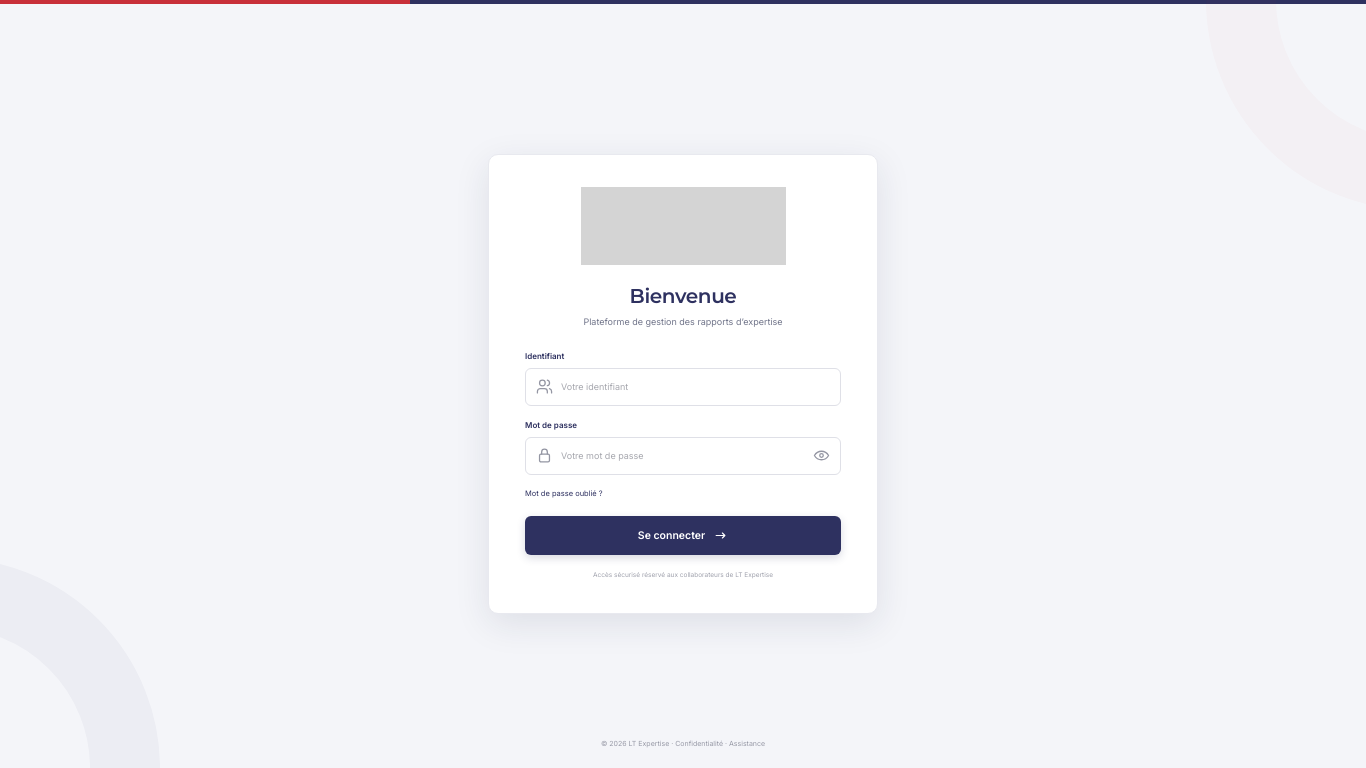
Test: page de connexion › explique la réinitialisation par l'administrateur
What coordinates should you click on to do the following:
click the button "Mot de passe oublié ?"
I would click on:
 (564, 493)
Its box is [525,488,603,499].
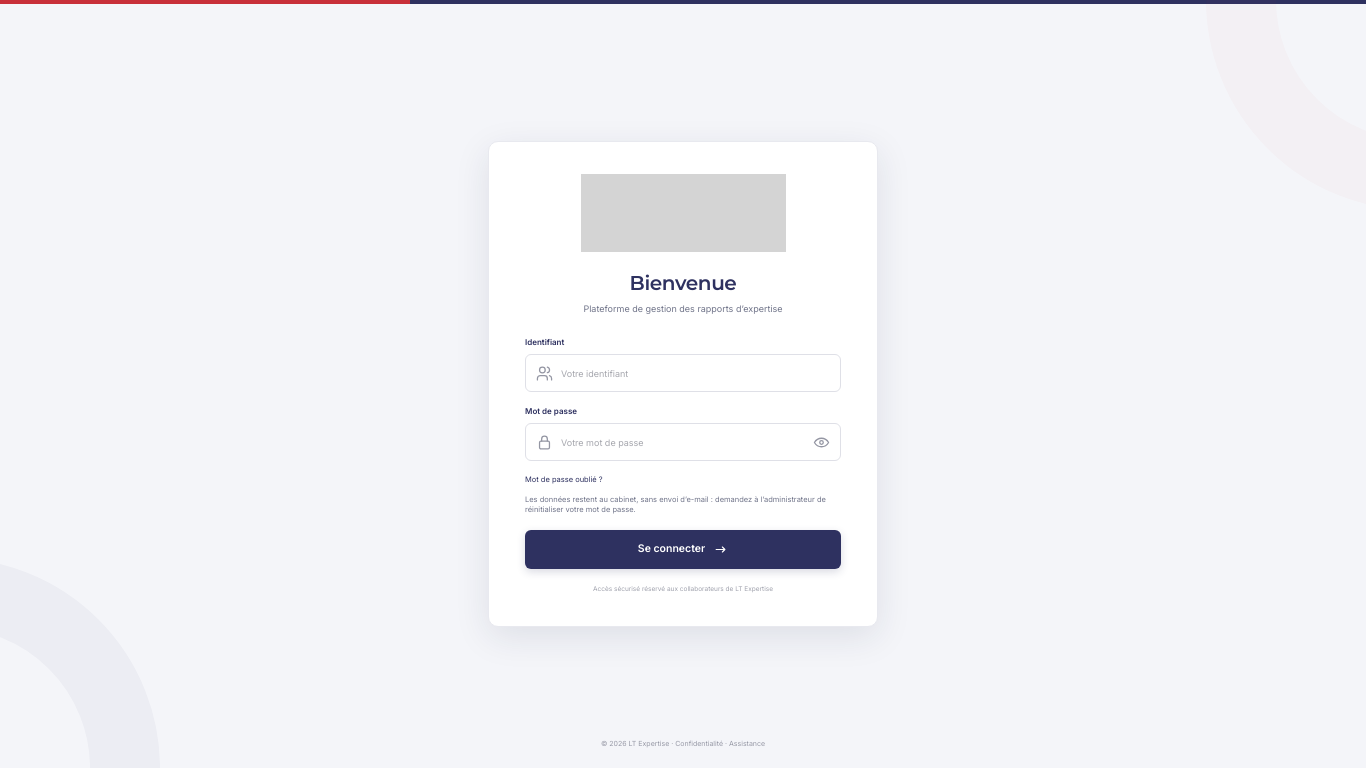
Result: the text "demandez à l’administrateur" is shown at [525,494,826,514]
